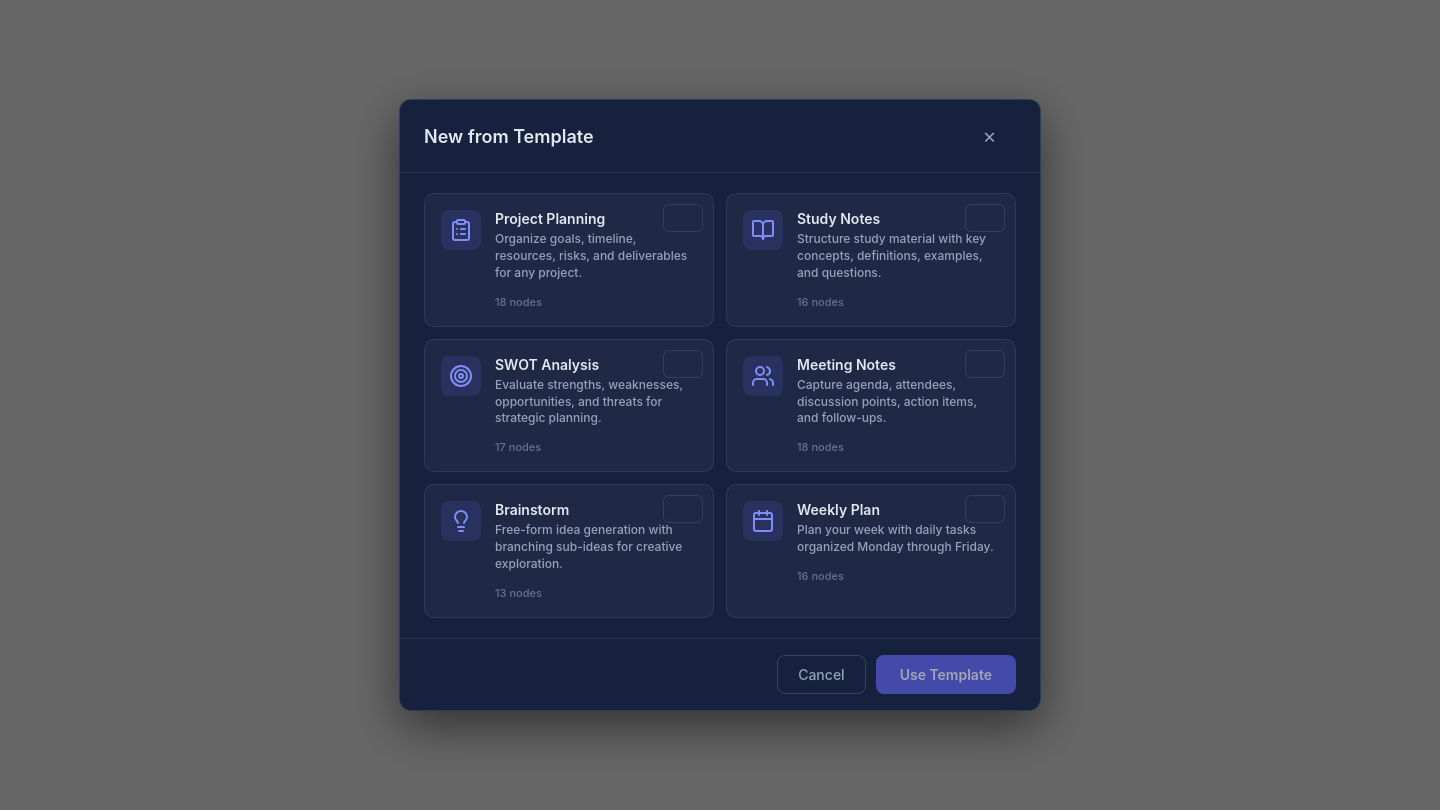
Test: TemplateModal › after selecting a template, "Use Template" is enabled
Select the first template
Click the button "Project Planning". click: {"x": 569, "y": 260}
box: [424, 193, 714, 327]
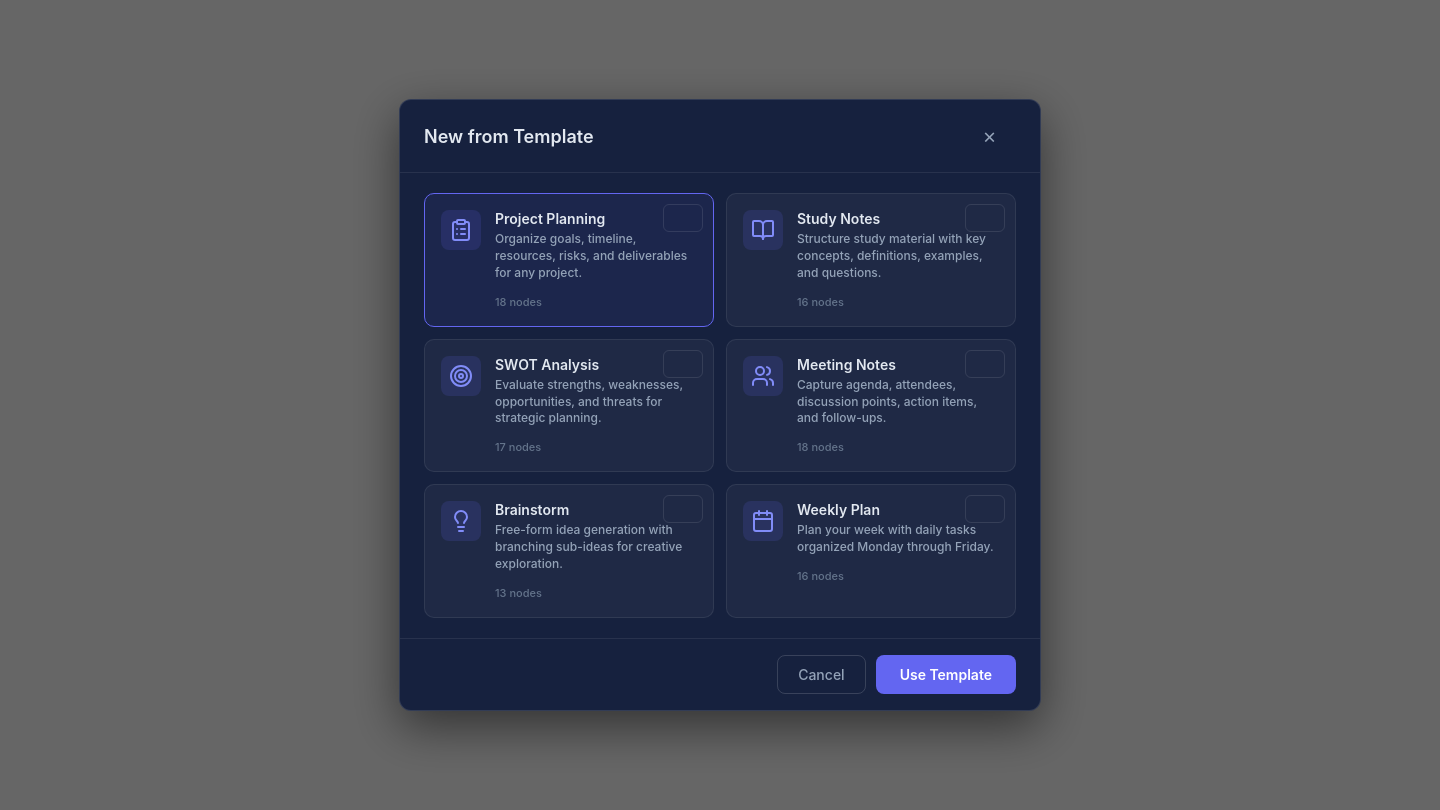
Check: the button "Use Template" is enabled, box [876, 655, 1016, 694]
